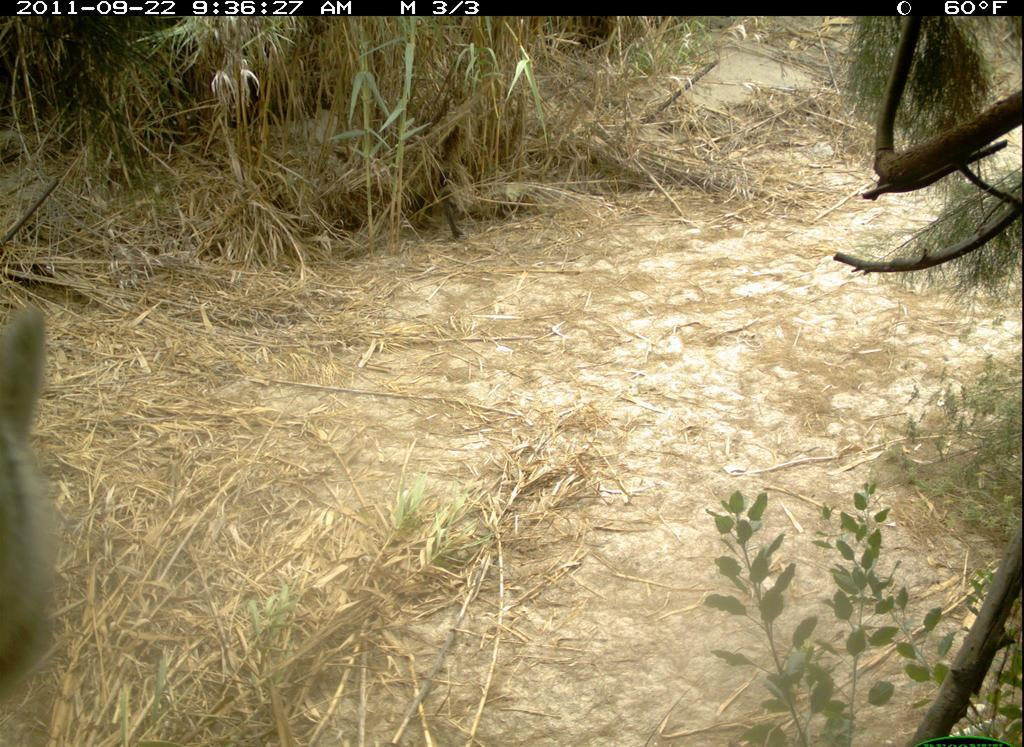coyote: (6, 297, 76, 733)
